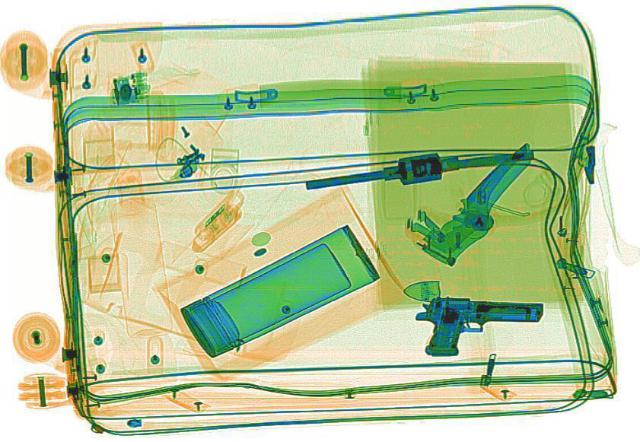Gun: (411, 294, 543, 357)
